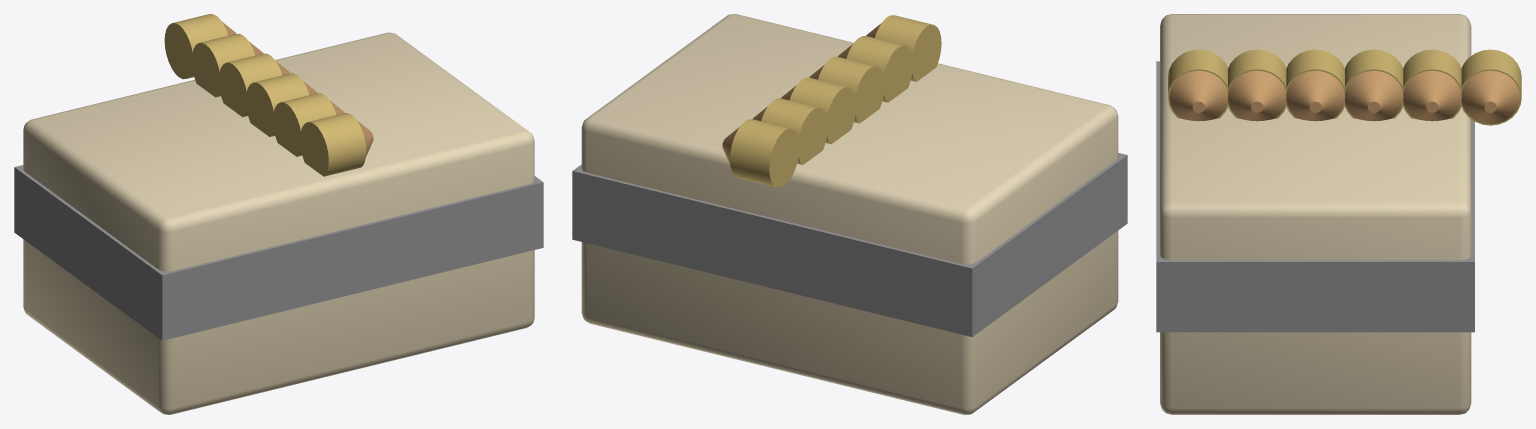
File: SM_Ammo_ball.fbx
3 views of the same model, side by side, from view 1: azimuth 30°, elevation 25°; view 2: azimuth 150°, elevation 25°; view 3: azimuth 270°, elevation 25° (orthographic). The views are drawn at different scales.
Parts seen in each view (by area): view 1: SM_Ammo_ball; view 2: SM_Ammo_ball; view 3: SM_Ammo_ball.
Part boxes in pixels (bbox=[...]): SM_Ammo_ball: bbox=[14, 14, 543, 414]; SM_Ammo_ball: bbox=[572, 14, 1127, 414]; SM_Ammo_ball: bbox=[1156, 14, 1521, 414].
Size of the model in its own units: 0.094 by 0.122 by 0.074.
